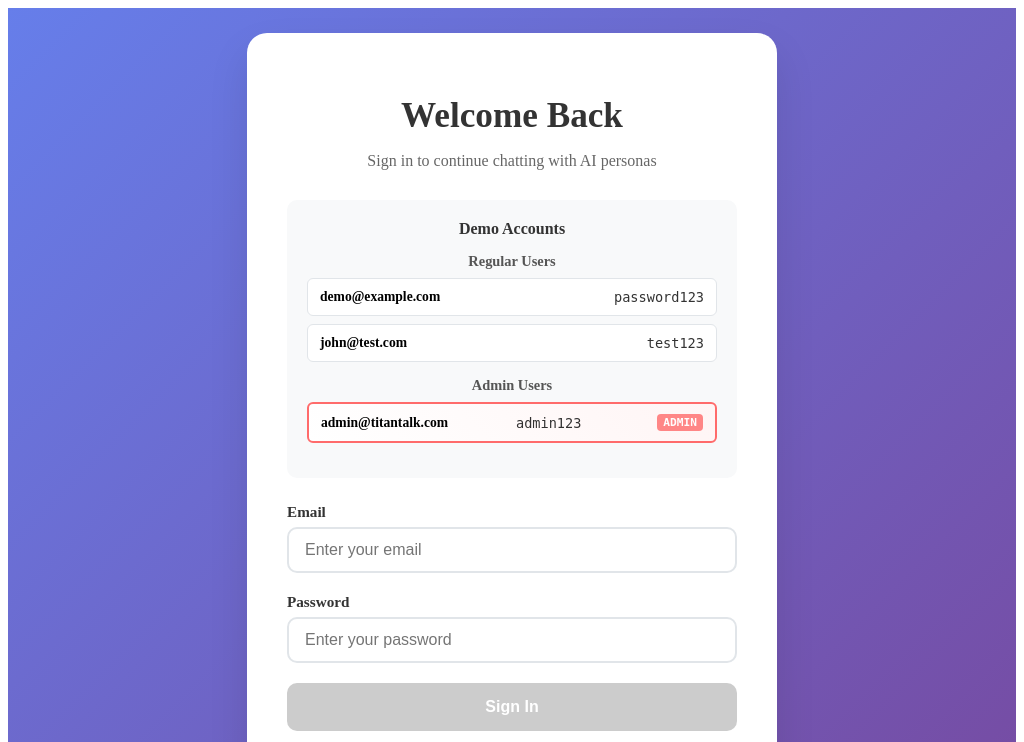
Test: AI Persona Social Network - User Journey › Error Handling › should show error for invalid login
In the field with id "email": (512, 550) top-left (287, 527), bottom-right (737, 573), type "invalid@example.com"
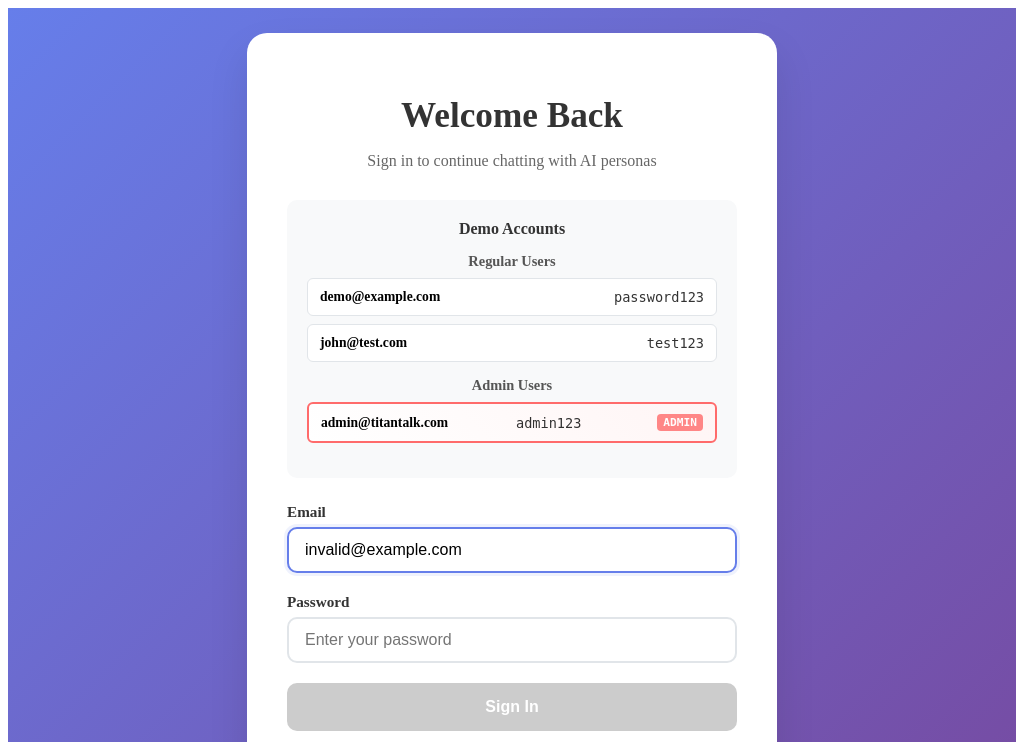
In the password field labelled "Password": (512, 640) top-left (287, 617), bottom-right (737, 663), type "wrongpassword"
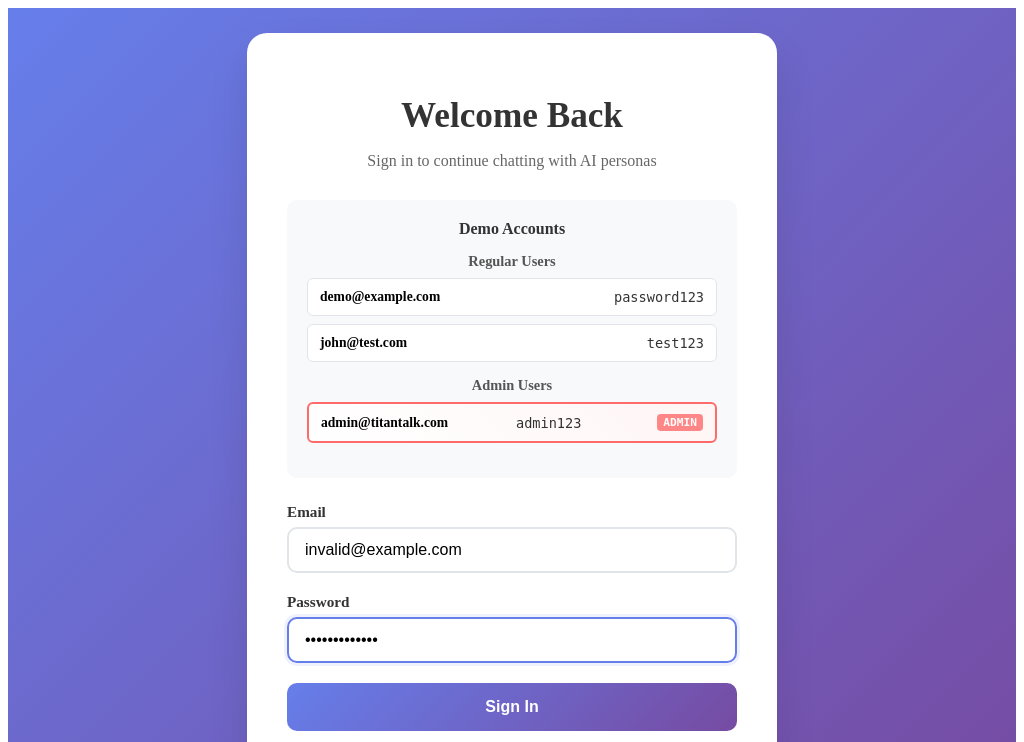
Click the button "Sign In": click(512, 707) top-left (287, 683), bottom-right (737, 731)
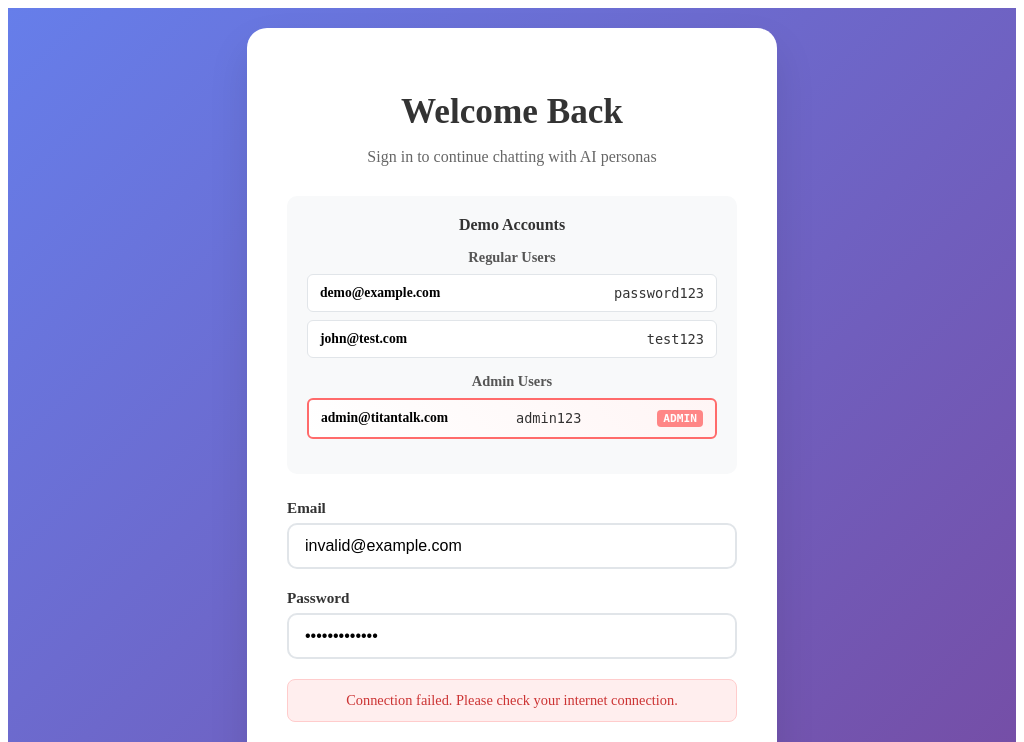
Check: the text "Connection failed. Please check your internet connection." is shown, box top-left (287, 679), bottom-right (737, 722)
